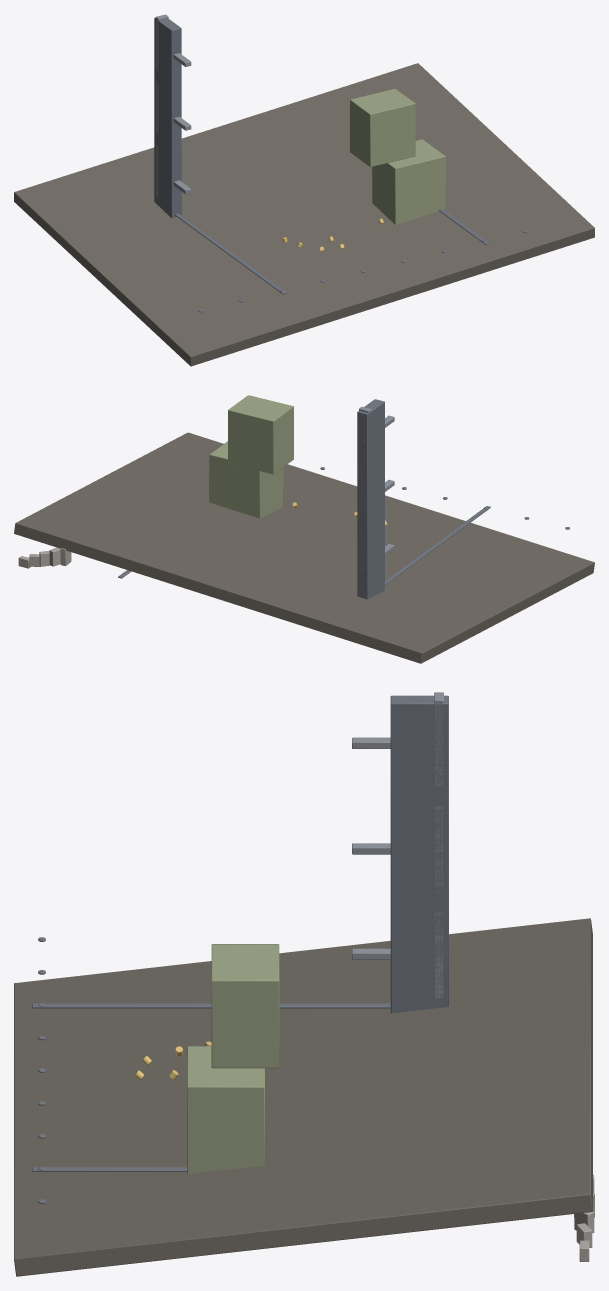
The model's file is SM_POI_ArmoryWreck.fbx.
3 renders of one model, top to bottom at view 1: azimuth 30°, elevation 25°; view 2: azimuth 150°, elevation 25°; view 3: azimuth 270°, elevation 25°, orthographic. The views are drawn at different scales.
Parts seen in each view (by area): view 1: SM_POI_ArmoryWreck; view 2: SM_POI_ArmoryWreck; view 3: SM_POI_ArmoryWreck.
Boxes of the visible parts, left/top/right/bottom form: SM_POI_ArmoryWreck: left=14, top=14, right=594, bottom=366; SM_POI_ArmoryWreck: left=14, top=395, right=594, bottom=663; SM_POI_ArmoryWreck: left=14, top=692, right=594, bottom=1276.
Size of what is drawn, in the model's own units: 4.02 by 2.19 by 3.
